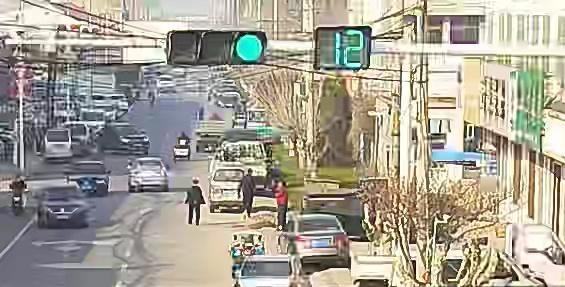green: (237, 35, 263, 60)
greentime: (329, 30, 368, 71)
